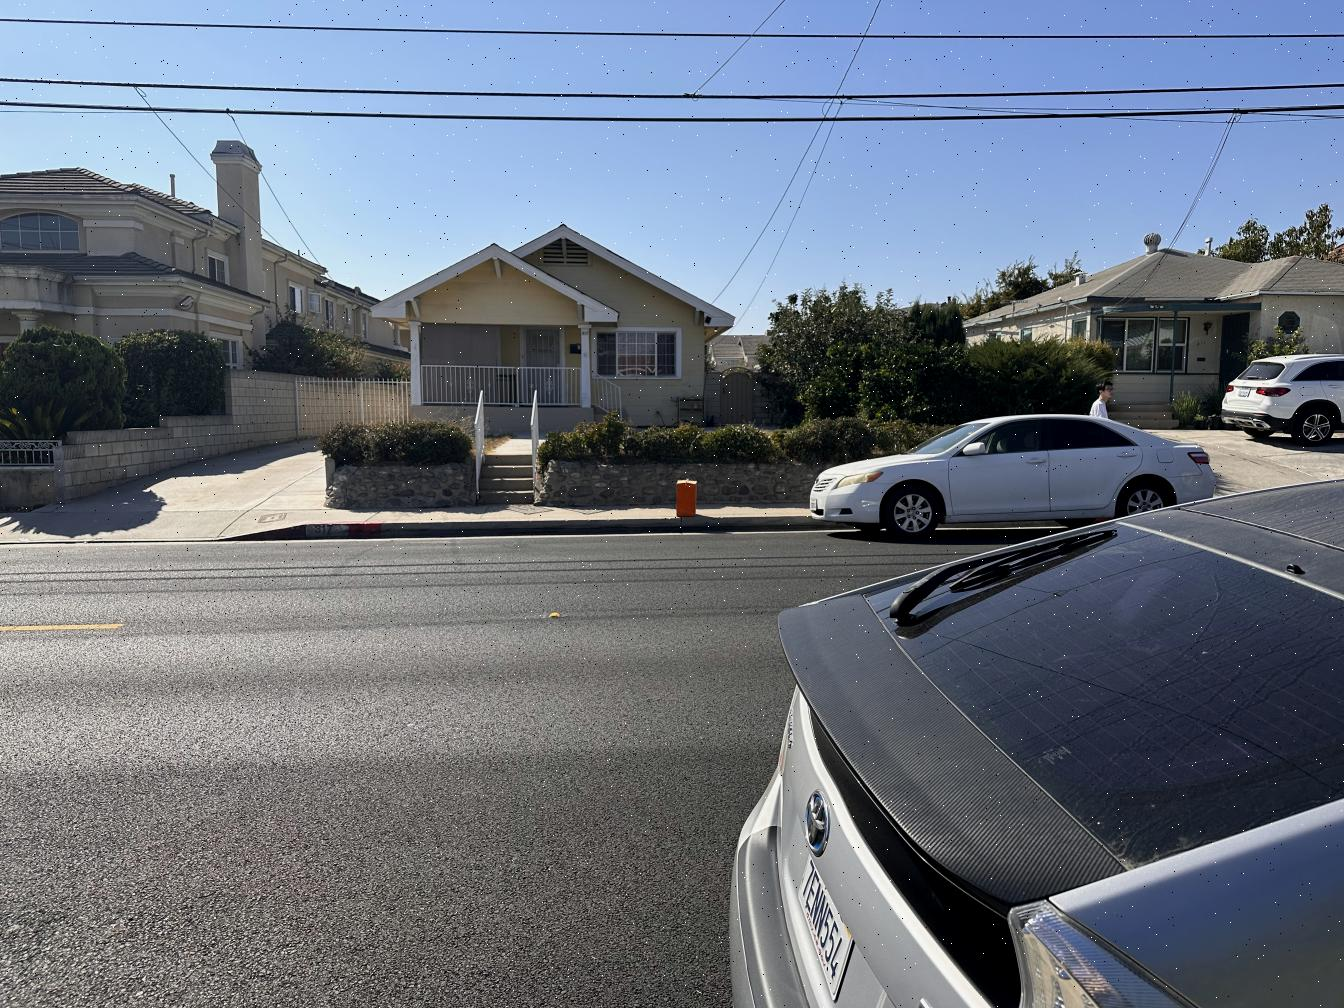curbs-laRr: (382, 517, 835, 538)
orange box: (676, 480, 698, 518)
